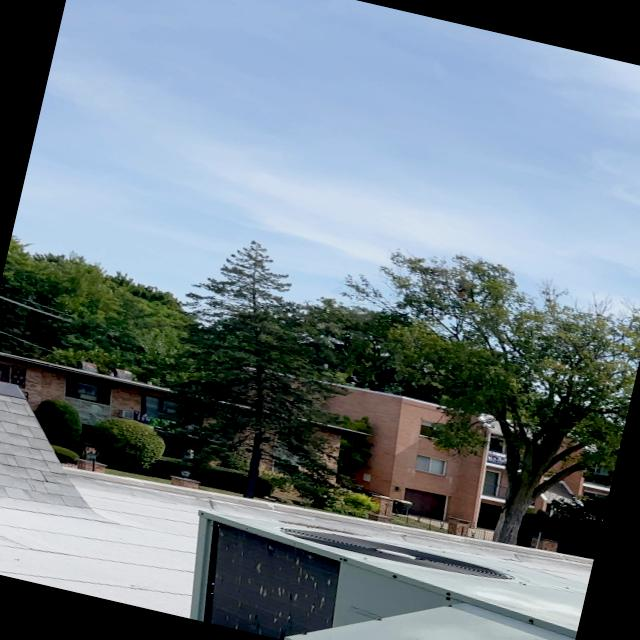RTU: (173, 488, 589, 640)
